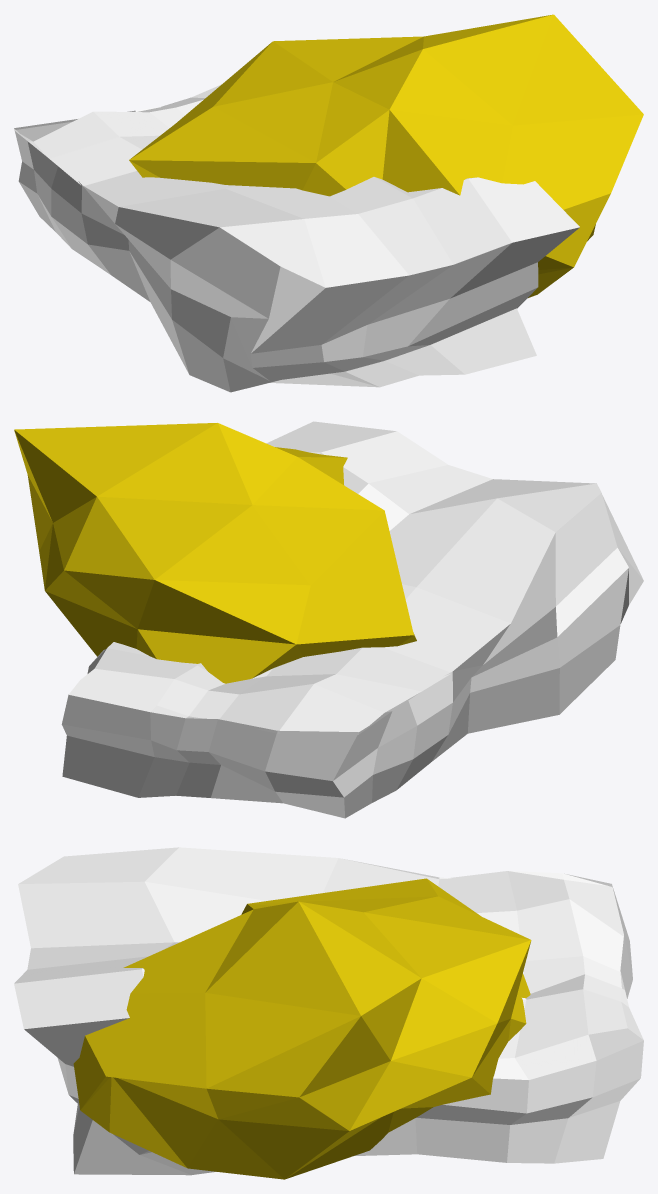
The model's file is liberation.glb.
3 renders of one model, top to bottom at view 1: azimuth 30°, elevation 25°; view 2: azimuth 150°, elevation 25°; view 3: azimuth 270°, elevation 25°, orthographic. The views are drawn at different scales.
Visible parts, largest first — view 1: Cube, Icosphere; view 2: Cube, Icosphere; view 3: Icosphere, Cube.
Boxes of the visible parts, x1,y1,x2,y2 form: Cube: (14,85,579,392); Icosphere: (129,14,643,297); Cube: (61,421,643,818); Icosphere: (14,423,416,683); Icosphere: (73,878,531,1179); Cube: (14,847,643,1175).
Bounding box in the file's own units: 3.46 × 1.81 × 3.61.
